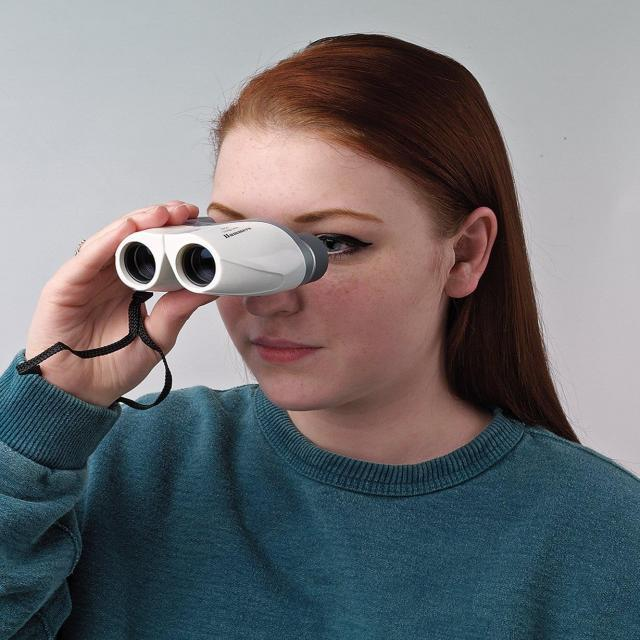Binocular: (113, 216, 334, 301)
